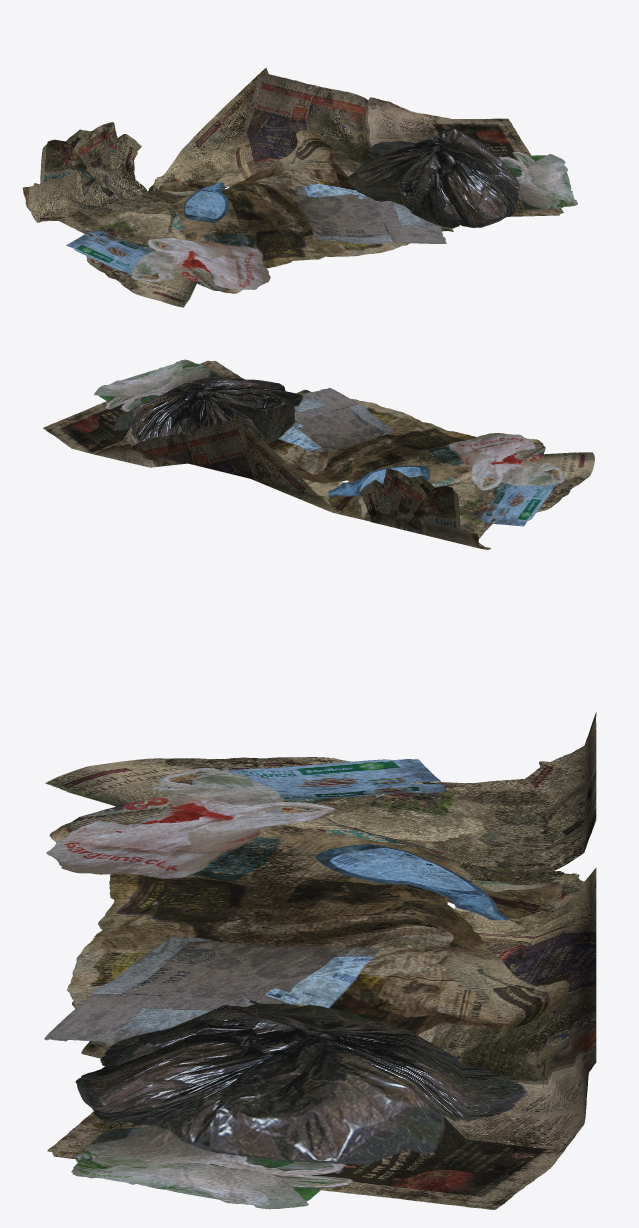
File: 3D_Decal_04.fbx
The picture shows the model from 3 angles, top to bottom: view 1: azimuth 30°, elevation 25°; view 2: azimuth 150°, elevation 25°; view 3: azimuth 270°, elevation 25°; orthographic projection. The views are drawn at different scales.
Parts seen in each view (by area): view 1: THREED_Decal; view 2: THREED_Decal; view 3: THREED_Decal.
Part boxes in pixels (x1,y1,x2,y2): THREED_Decal: (22, 68, 577, 307); THREED_Decal: (43, 359, 594, 549); THREED_Decal: (44, 712, 596, 1209).
Bounding box in the file's own units: 2.42 × 0.4172 × 1.23.
